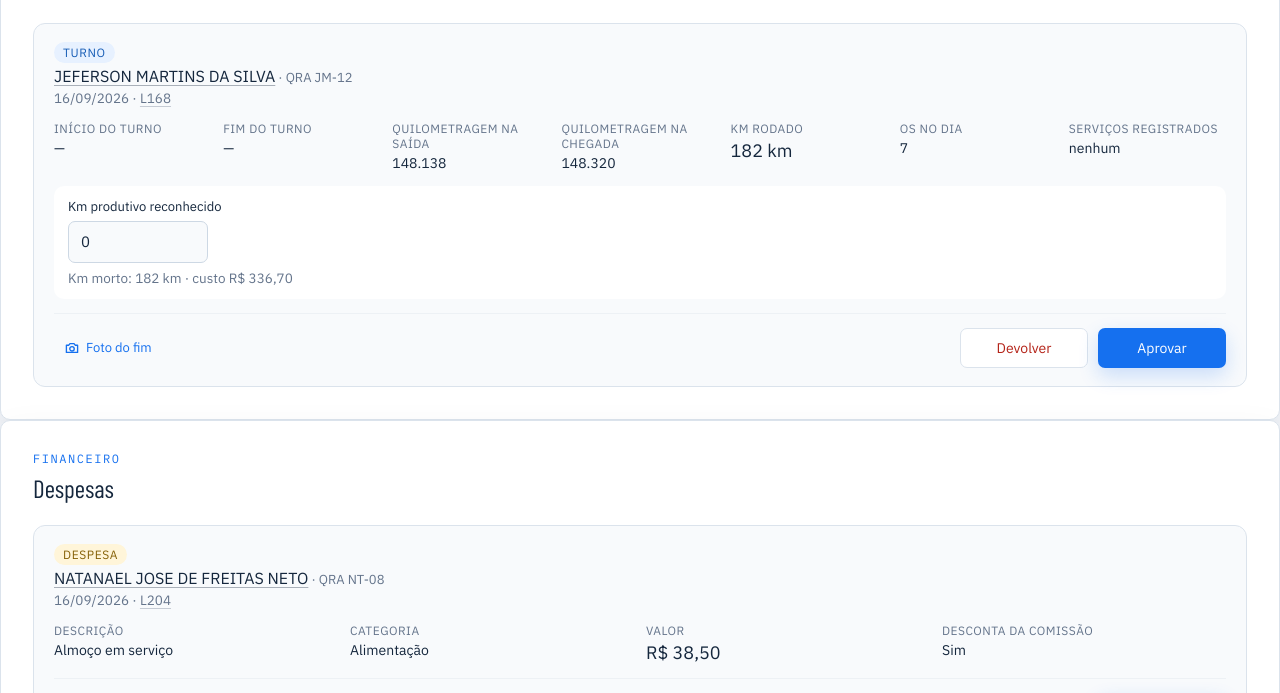
Test case: aprovar o turno avisa que o km entra no sistema
(page scrolled)
Click the button "Aprovar" below "nenhum" at coordinates (1162, 348), box left=1098, top=328, right=1226, bottom=368
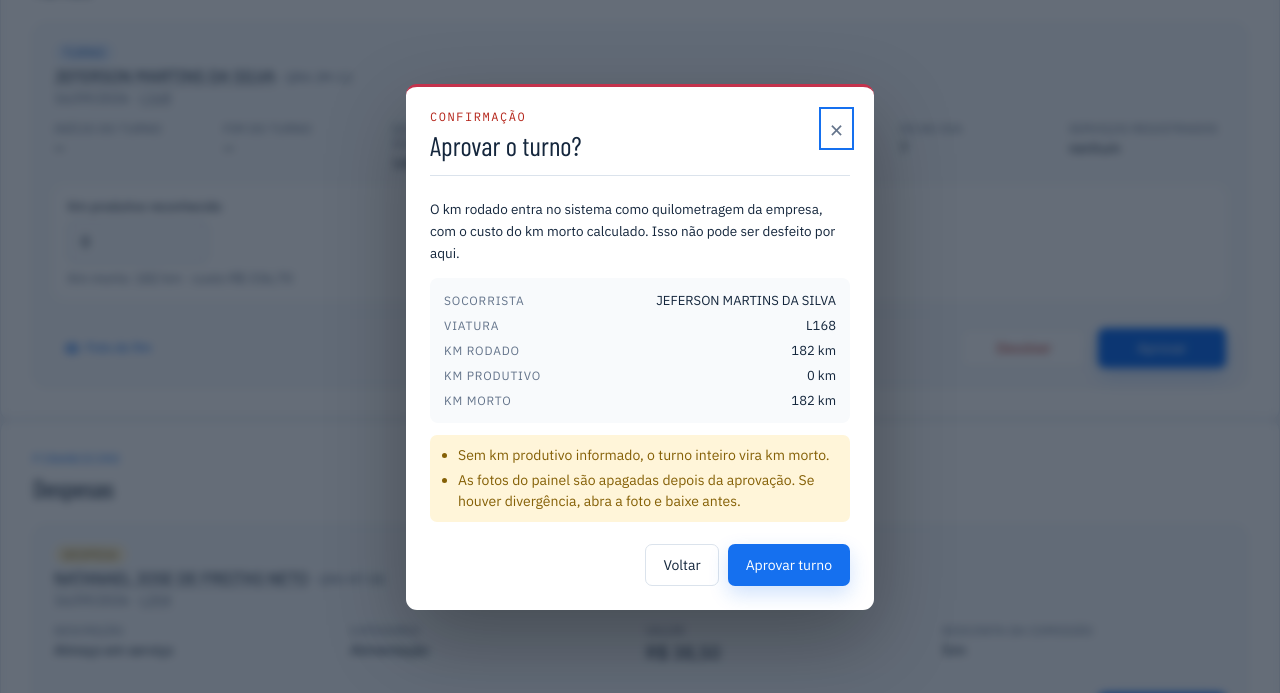
Expected: the heading "Aprovar o turno?" is shown, left=430, top=129, right=582, bottom=161
Expected: the text "quilometragem da empresa" is shown, left=430, top=200, right=835, bottom=262
Expected: the list item "Sem km produtivo informado, o turno inteiro vira km morto." is shown, left=458, top=445, right=838, bottom=466
